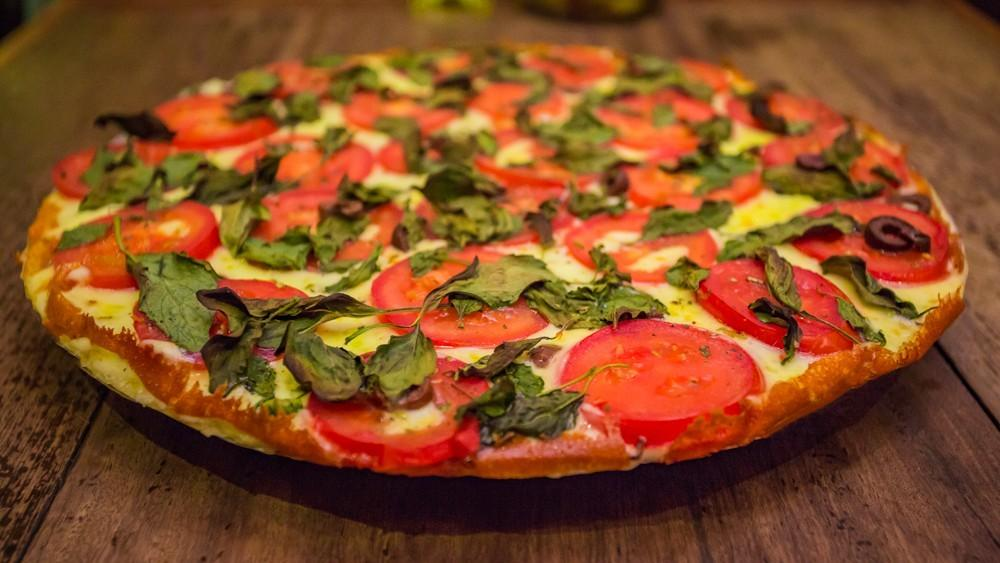Basil: (174, 318, 438, 422), (741, 247, 928, 349), (461, 327, 595, 449), (104, 222, 223, 350), (190, 279, 427, 333), (219, 191, 375, 272), (73, 145, 288, 199), (547, 249, 675, 337), (395, 167, 539, 245), (765, 120, 898, 203), (410, 250, 551, 324), (515, 104, 617, 180), (226, 60, 333, 129), (723, 208, 862, 259), (659, 137, 757, 197), (388, 45, 477, 109), (482, 44, 558, 118), (591, 54, 718, 96), (648, 103, 737, 155), (307, 49, 391, 104), (638, 199, 723, 246), (303, 119, 360, 168), (662, 249, 714, 297), (56, 211, 118, 251)
Olives: (863, 211, 935, 258), (744, 73, 792, 134), (318, 191, 369, 225), (791, 146, 839, 174), (602, 163, 632, 199)
Pizza: (23, 36, 968, 487)
Tomatoes: (550, 313, 767, 448), (304, 345, 495, 468), (361, 245, 568, 349), (698, 256, 865, 357), (126, 271, 313, 358), (775, 197, 949, 286), (50, 197, 219, 286), (224, 185, 405, 267), (406, 176, 586, 250), (555, 207, 717, 284), (597, 146, 765, 213), (42, 140, 215, 201), (756, 130, 904, 200), (568, 89, 728, 150), (223, 129, 372, 193), (465, 120, 610, 184), (133, 87, 287, 147), (506, 38, 629, 87), (343, 86, 462, 136), (724, 89, 849, 132), (460, 79, 571, 125), (251, 56, 341, 105), (363, 131, 446, 171), (668, 55, 736, 92), (413, 46, 478, 83)
